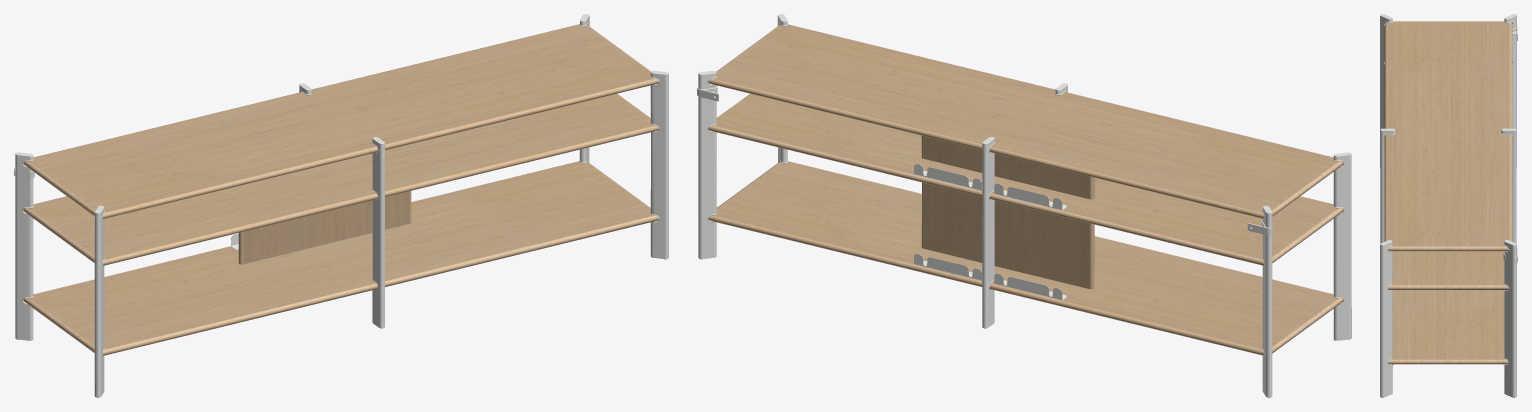
3 renders of one model, left to right at view 1: azimuth 30°, elevation 25°; view 2: azimuth 150°, elevation 25°; view 3: azimuth 270°, elevation 25°, orthographic. The views are drawn at different scales.
Parts seen in each view (by area): view 1: model; view 2: model; view 3: model.
Boxes of the visible parts, x1,y1,x2,y2 form: model: [14, 14, 668, 397]; model: [697, 14, 1351, 397]; model: [1380, 14, 1517, 397].
Bounding box in the file's own units: 1.61 × 0.4946 × 0.403.
1 material, 1 textured.
